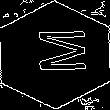M_W: (26, 32, 84, 78)
